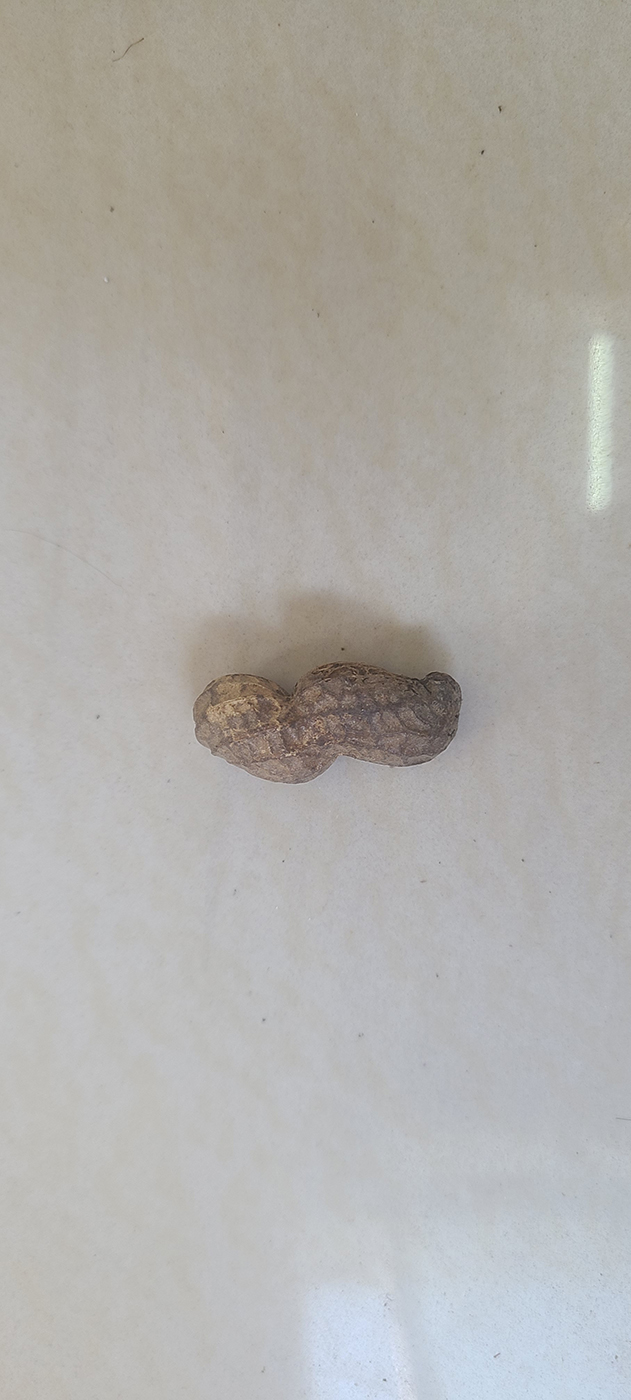l: (196, 661, 460, 786)
